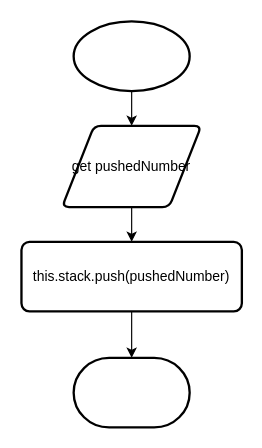
Image size: 262x448. Some labels were removed from this diagram. Here are the shapes that lost their labels. From the top down, the box of each, then its label:
(72, 20, 190, 92): start
(72, 356, 190, 428): stop
